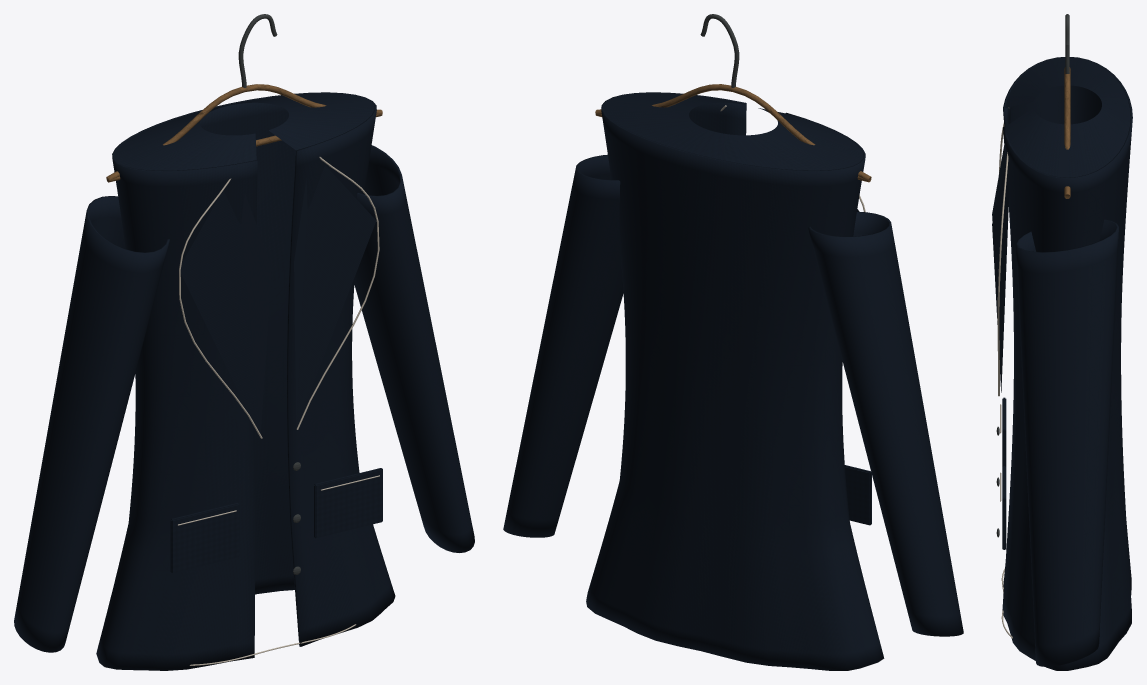
File: sku_v24_blazer.glb
The picture shows the model from 3 angles, left to right: view 1: azimuth 30°, elevation 25°; view 2: azimuth 150°, elevation 25°; view 3: azimuth 270°, elevation 25°; orthographic projection. The views are drawn at different scales.
Parts seen in each view (by area): view 1: sku_v24_blazer_Woven_navy_suiting, sku_v24_blazer_Stitching, sku_v24_blazer_CC0_Oak_veneer, sku_v24_blazer_Anodised_graphite; view 2: sku_v24_blazer_Woven_navy_suiting, sku_v24_blazer_CC0_Oak_veneer; view 3: sku_v24_blazer_Woven_navy_suiting, sku_v24_blazer_Stitching, sku_v24_blazer_CC0_Oak_veneer, sku_v24_blazer_Anodised_graphite.
Boxes of the visible parts, x1,y1,x2,y2 form: sku_v24_blazer_Woven_navy_suiting: [14, 92, 474, 670]; sku_v24_blazer_Stitching: [177, 157, 379, 665]; sku_v24_blazer_CC0_Oak_veneer: [106, 84, 382, 182]; sku_v24_blazer_Anodised_graphite: [238, 14, 300, 574]; sku_v24_blazer_Woven_navy_suiting: [503, 92, 963, 670]; sku_v24_blazer_CC0_Oak_veneer: [595, 84, 871, 182]; sku_v24_blazer_Woven_navy_suiting: [992, 57, 1132, 670]; sku_v24_blazer_Stitching: [997, 107, 1012, 638]; sku_v24_blazer_CC0_Oak_veneer: [1064, 67, 1070, 198]; sku_v24_blazer_Anodised_graphite: [996, 14, 1069, 537].
Size of the model in its own units: 0.6591 by 0.8534 by 0.183.
4 materials, 2 textured.
